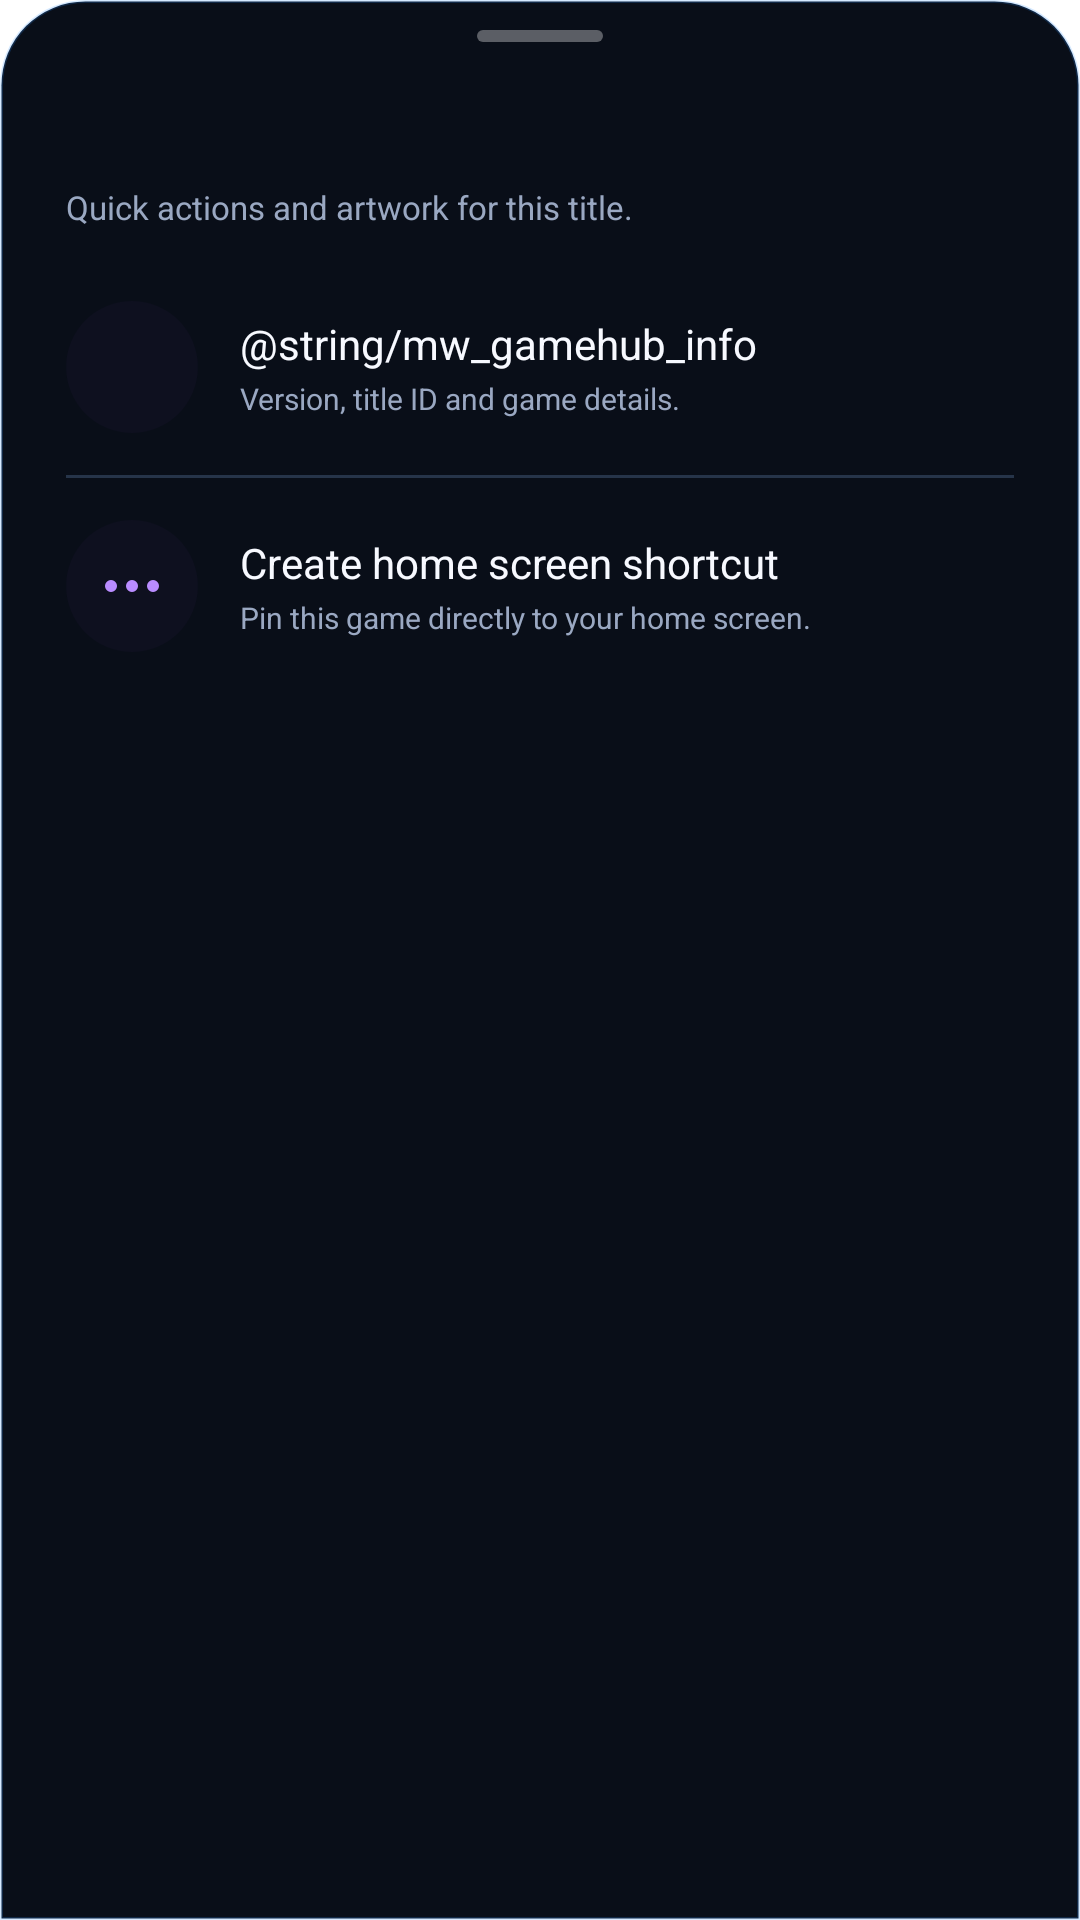

Icons on this 1080×1920 Android screen, each with its box as (x1, y1, x2, y2):
gamehub more: (105, 580, 159, 592)
